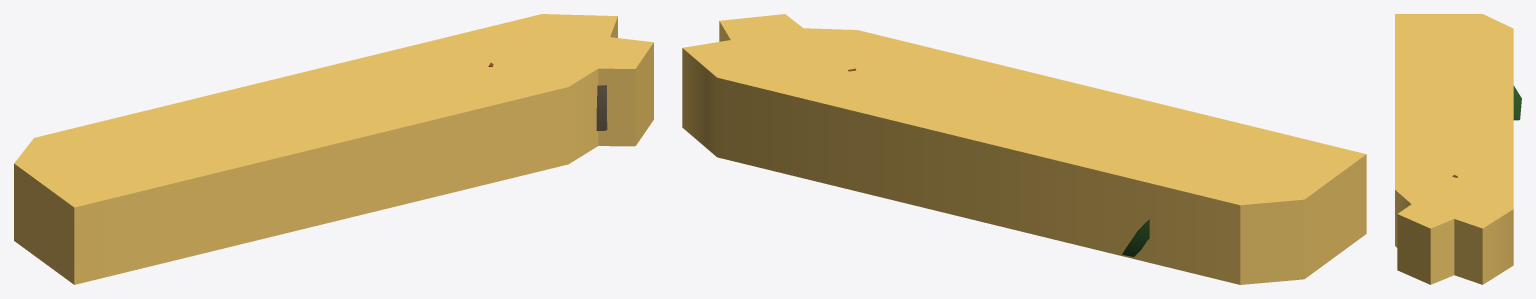
File: 115_planche_flottee.fbx
3 views of the same model, side by side, from view 1: azimuth 30°, elevation 25°; view 2: azimuth 150°, elevation 25°; view 3: azimuth 270°, elevation 25° (orthographic). The views are drawn at different scales.
Parts seen in each view (by area): view 1: Lueur, Planche; view 2: Lueur, Planche; view 3: Lueur, Planche.
Part boxes in pixels (box(x1,y1,x2,y2)): Lueur: box(14, 14, 653, 284); Planche: box(488, 63, 607, 130); Lueur: box(682, 14, 1366, 284); Planche: box(848, 68, 1149, 256); Lueur: box(1395, 14, 1513, 284); Planche: box(1452, 85, 1521, 177).
Size of the model in its own units: 0.672 by 0.084 by 0.168.
1 material, 1 textured.
